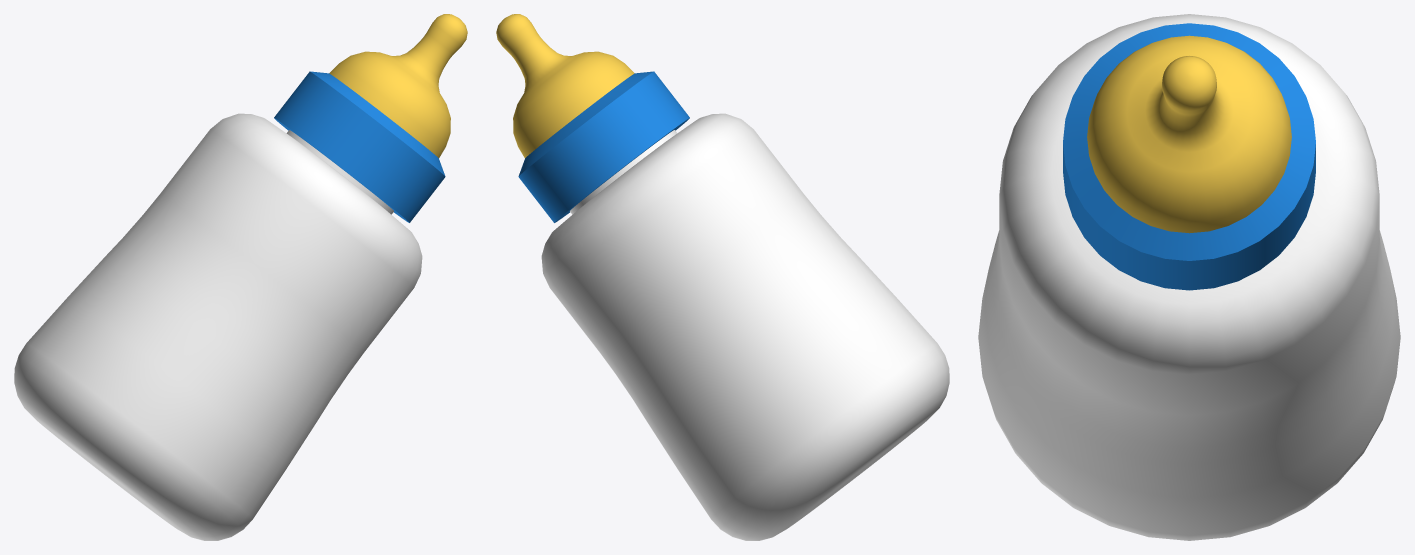
File: baby_bottle.glb
3 renders of one model, left to right at view 1: azimuth 30°, elevation 25°; view 2: azimuth 150°, elevation 25°; view 3: azimuth 270°, elevation 25°, orthographic. The views are drawn at different scales.
Visible parts, largest first — view 1: Circle.2266; view 2: Circle.2266; view 3: Circle.2266.
Part boxes in pixels (<box>): Circle.2266: <box>14,14,467,540</box>; Circle.2266: <box>496,14,949,540</box>; Circle.2266: <box>978,14,1400,540</box>.
Bounding box in the file's own units: 2.24 × 2.24 × 1.31.
1 material, 1 textured.
